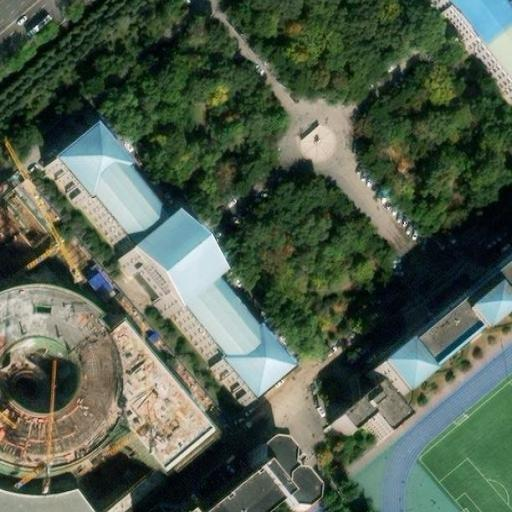building: (39, 129, 277, 403), (0, 320, 187, 512), (0, 296, 108, 486), (426, 0, 512, 104), (400, 290, 479, 365), (248, 440, 309, 503), (182, 474, 261, 512), (82, 263, 118, 300)
